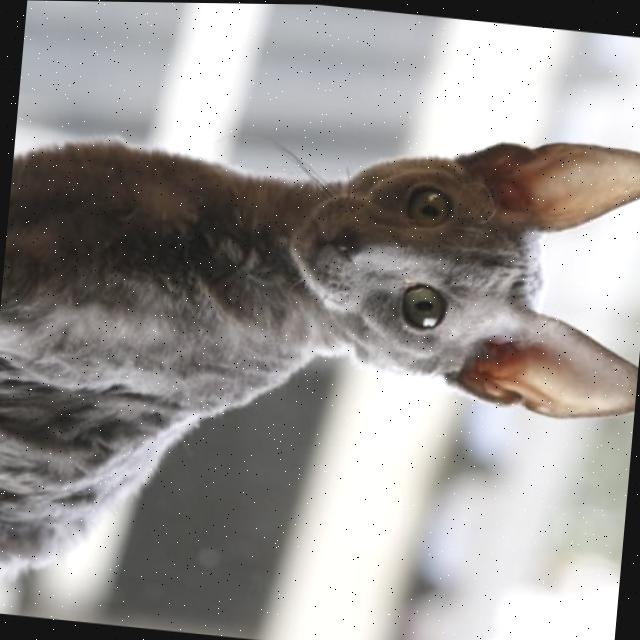Cornish Rex: (0, 78, 640, 640)
